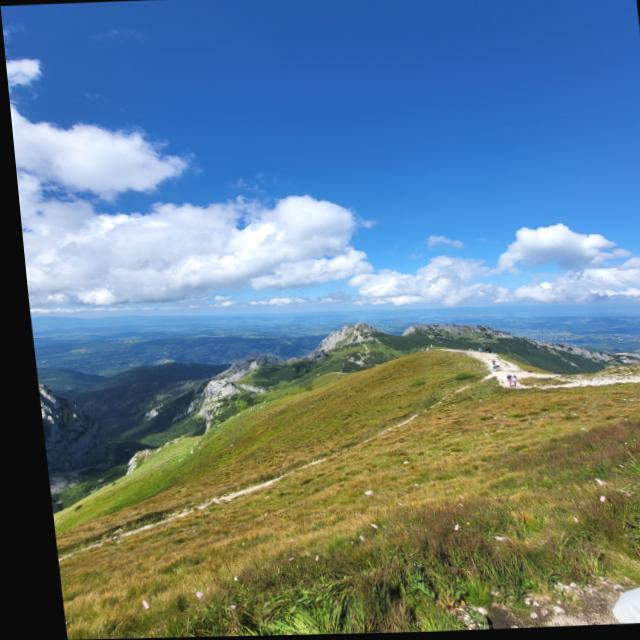Giewont: (229, 256, 506, 396)
Maly giewont: (168, 312, 336, 401)
